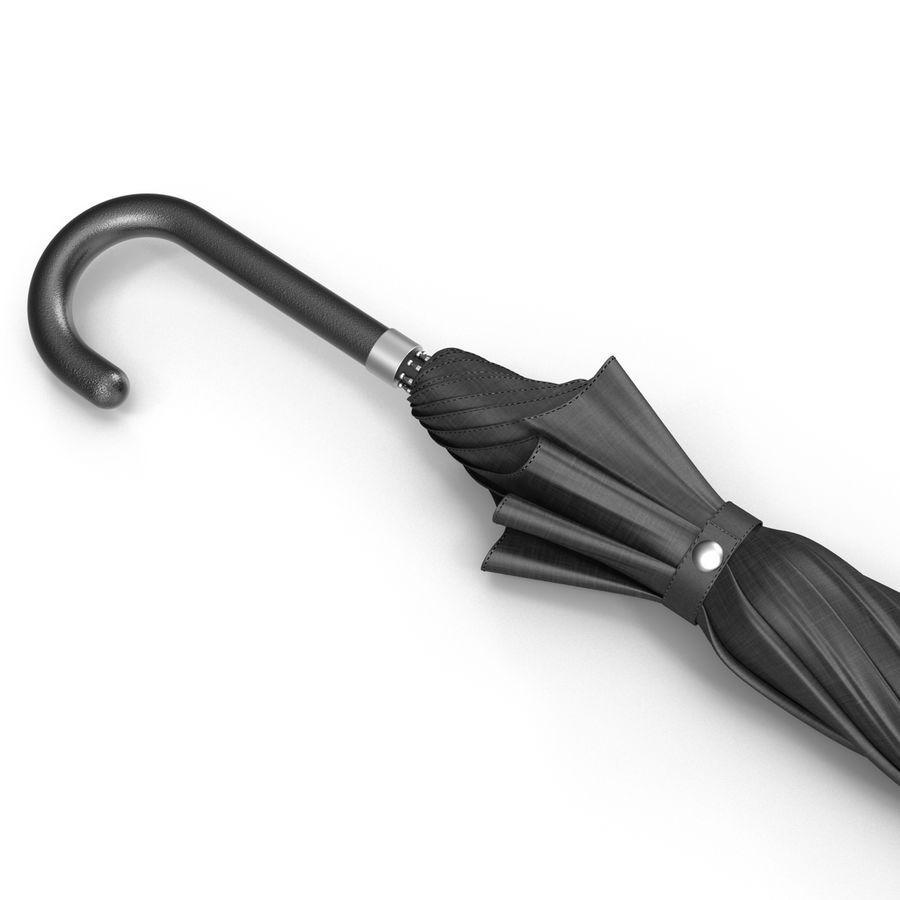Umbrella: (28, 163, 900, 788)
